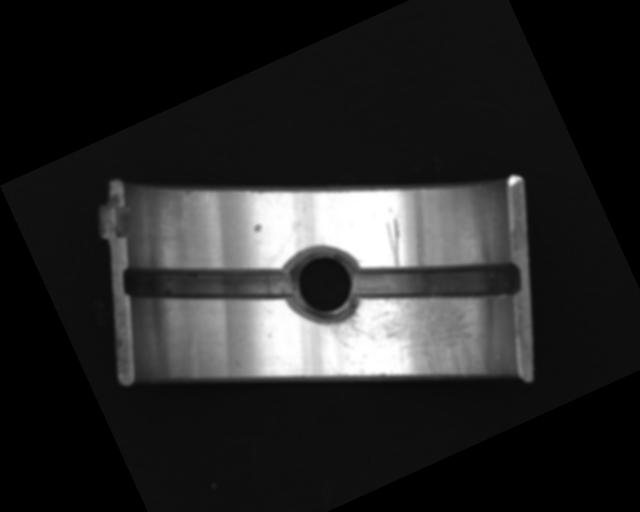bruise: (251, 222, 265, 235)
gap: (118, 208, 300, 356), (349, 210, 528, 352)
hole: (274, 235, 376, 335)
nick: (377, 216, 416, 268)
scratch: (317, 265, 494, 430)
